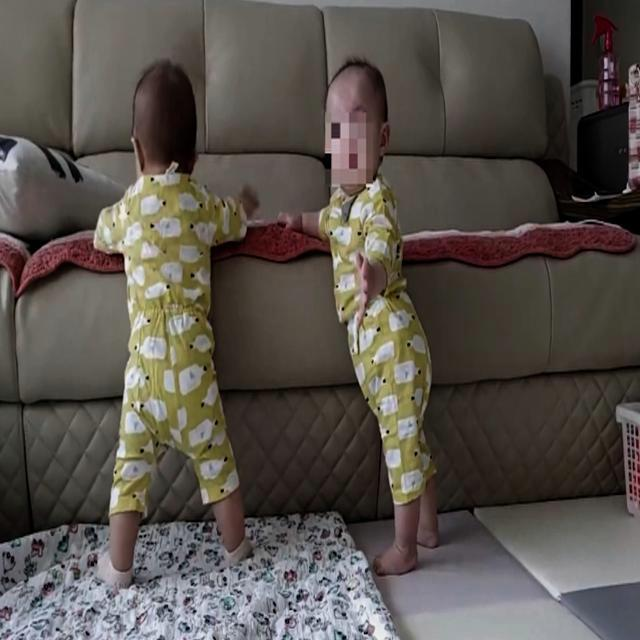child: (86, 58, 252, 593), (278, 63, 442, 582)
